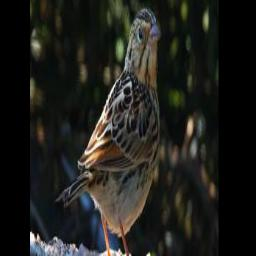Sparrow: (53, 0, 166, 256)
